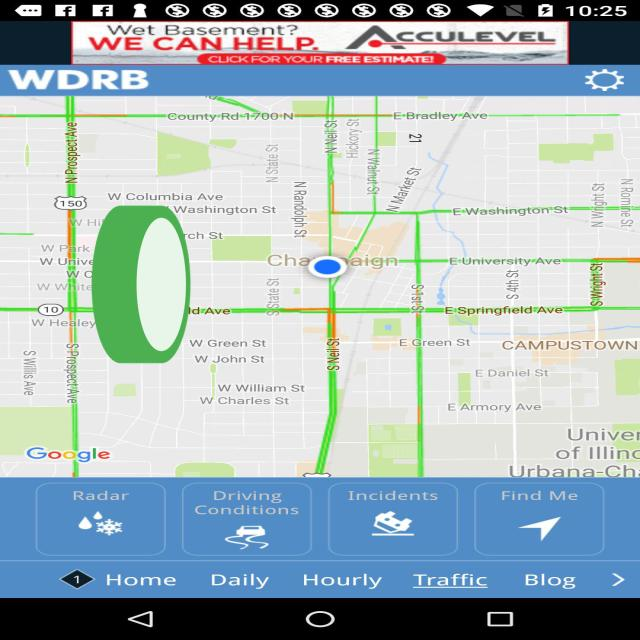social proof: (87, 145, 195, 436)
